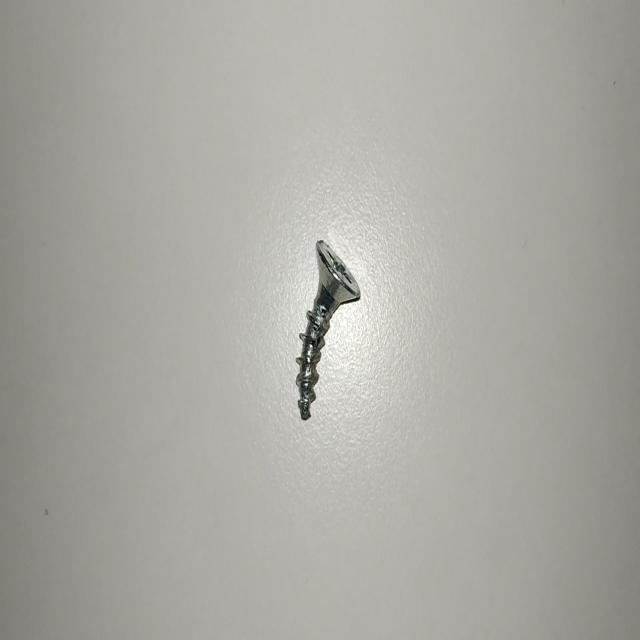Screw: (296, 239, 361, 419)
